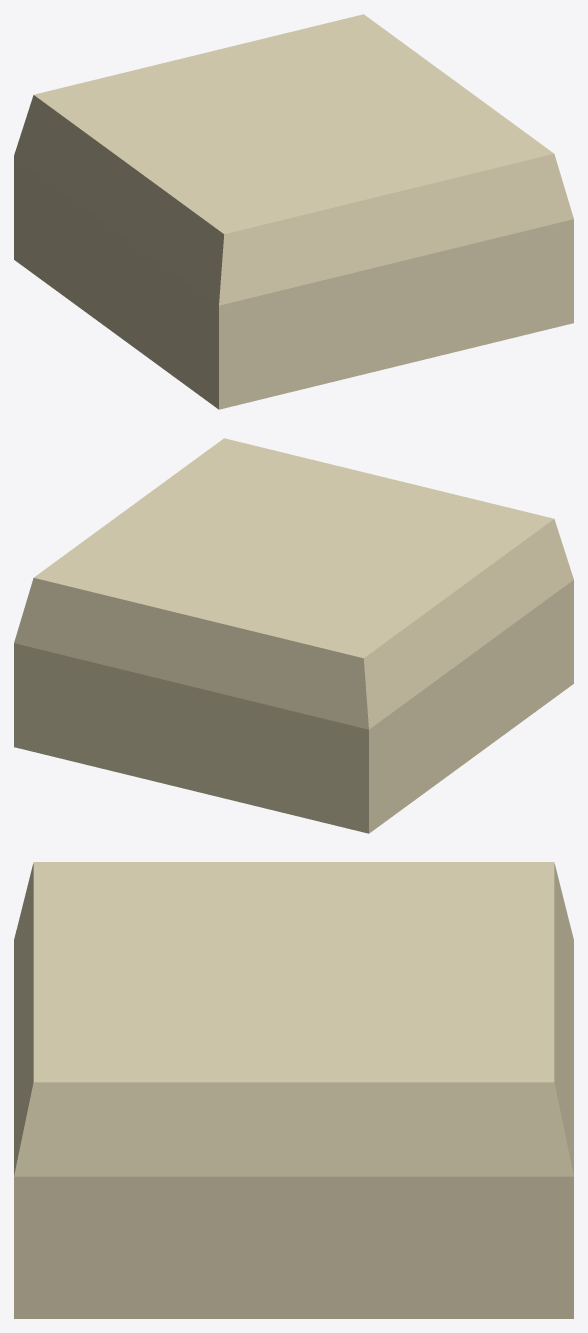
Rendered from towersquarebaseborder.glb.
The picture shows the model from 3 angles, top to bottom: view 1: azimuth 30°, elevation 25°; view 2: azimuth 150°, elevation 25°; view 3: azimuth 270°, elevation 25°; orthographic projection. The views are drawn at different scales.
Parts seen in each view (by area): view 1: towerSquareBaseBorder; view 2: towerSquareBaseBorder; view 3: towerSquareBaseBorder.
Boxes of the visible parts, x1=… form: towerSquareBaseBorder: x1=14, y1=14, x2=573, y2=409; towerSquareBaseBorder: x1=14, y1=438, x2=573, y2=833; towerSquareBaseBorder: x1=14, y1=862, x2=573, y2=1318.
Size of the model in its own units: 10 by 4.5 by 10.
